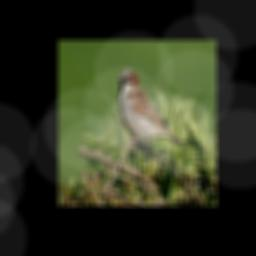Sparrow: (117, 67, 187, 150)
